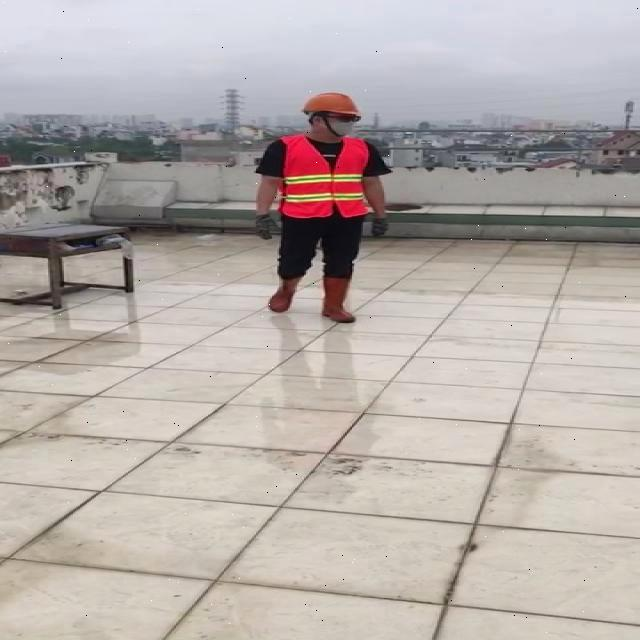Hard_hat: (296, 89, 366, 124)
Person: (253, 88, 403, 324)
Vest: (279, 133, 372, 223)
